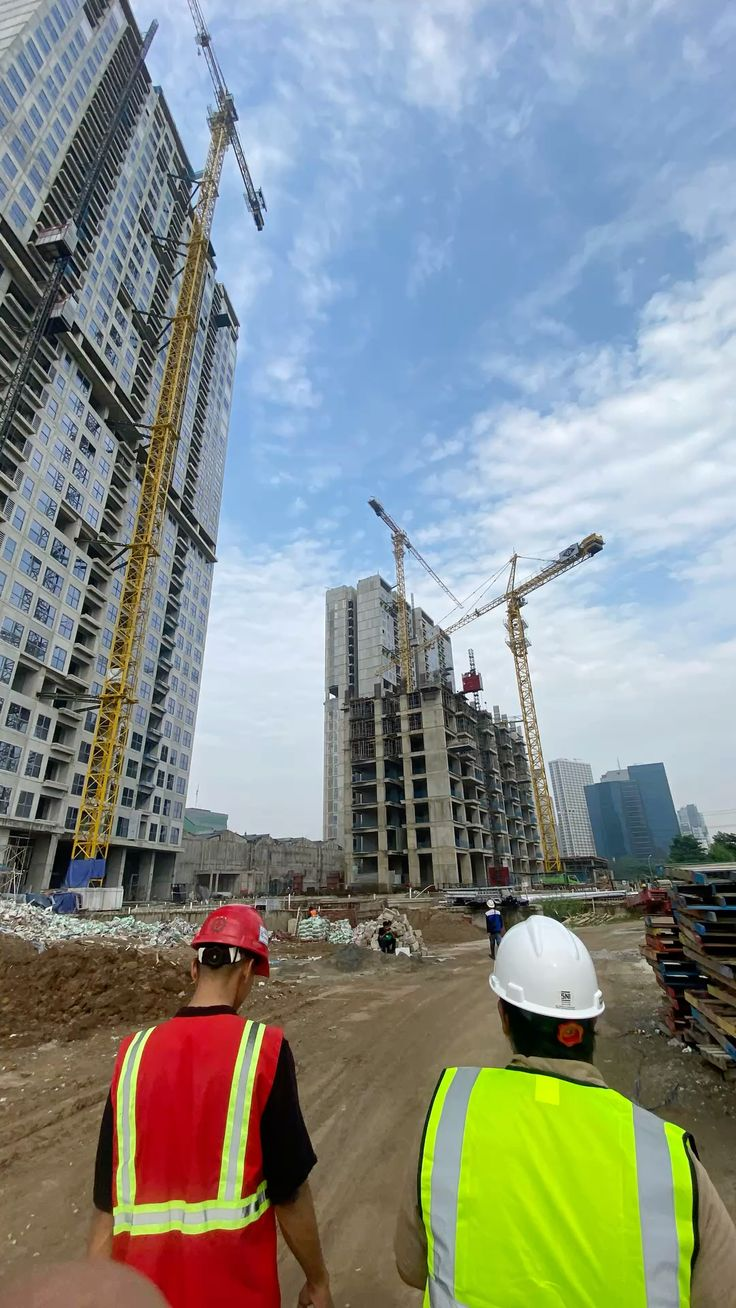crane: (68, 24, 298, 948), (453, 494, 651, 917), (355, 475, 478, 866)
hardhat: (451, 895, 618, 1024), (182, 868, 286, 967)
safety_vest: (417, 1033, 690, 1302), (108, 1024, 286, 1295)
